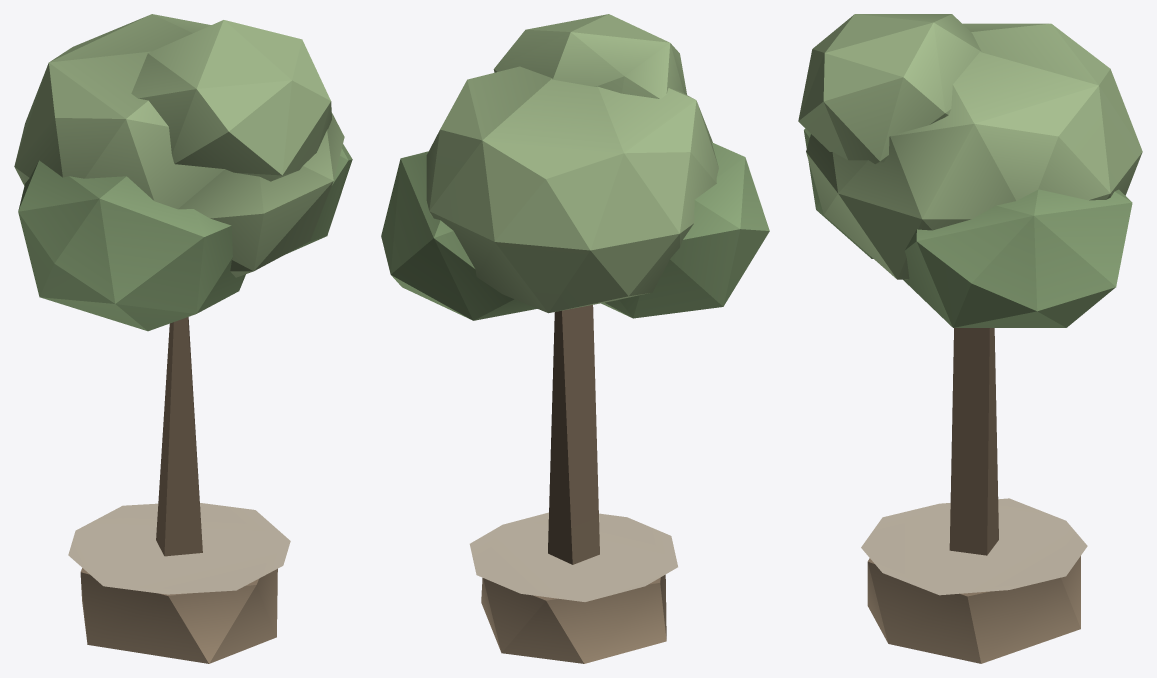
Rendered from roof_yard_tree_low.glb.
3 renders of one model, left to right at view 1: azimuth 30°, elevation 25°; view 2: azimuth 150°, elevation 25°; view 3: azimuth 270°, elevation 25°, orthographic. The views are drawn at different scales.
Visible parts, largest first — view 1: roof.yard_tree; view 2: roof.yard_tree; view 3: roof.yard_tree.
Part boxes in pixels (bbox=[...]): roof.yard_tree: bbox=[14, 14, 352, 663]; roof.yard_tree: bbox=[381, 14, 769, 663]; roof.yard_tree: bbox=[798, 14, 1142, 663].
Size of the model in its own units: 2.23 by 3.78 by 1.94.
